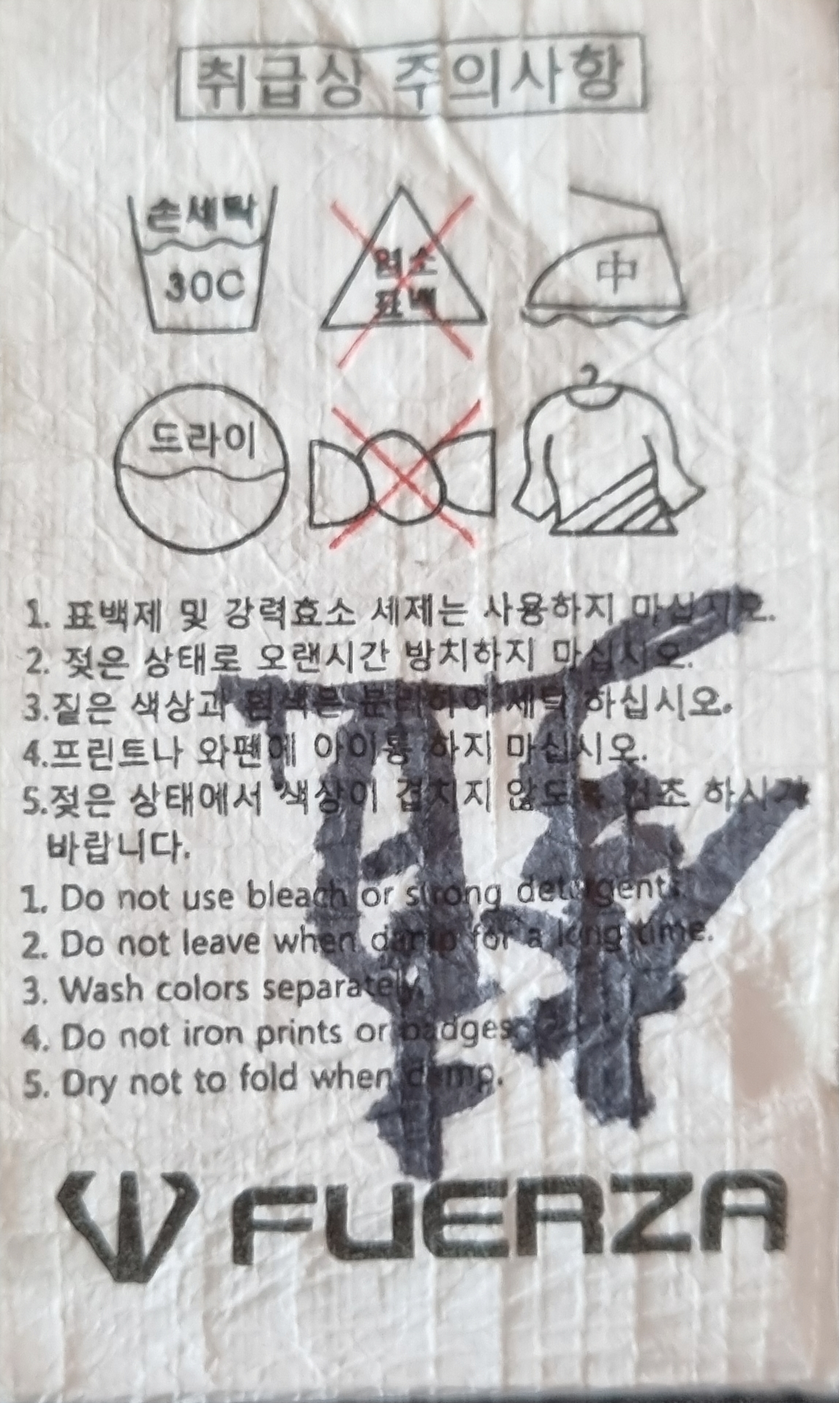KR_dry_clean: (114, 376, 296, 566)
KR_hand_wash_30_neutral: (110, 161, 288, 351)
KR_no_chlorine_bleach: (310, 164, 497, 357)
KR_no_wring: (303, 379, 505, 553)
